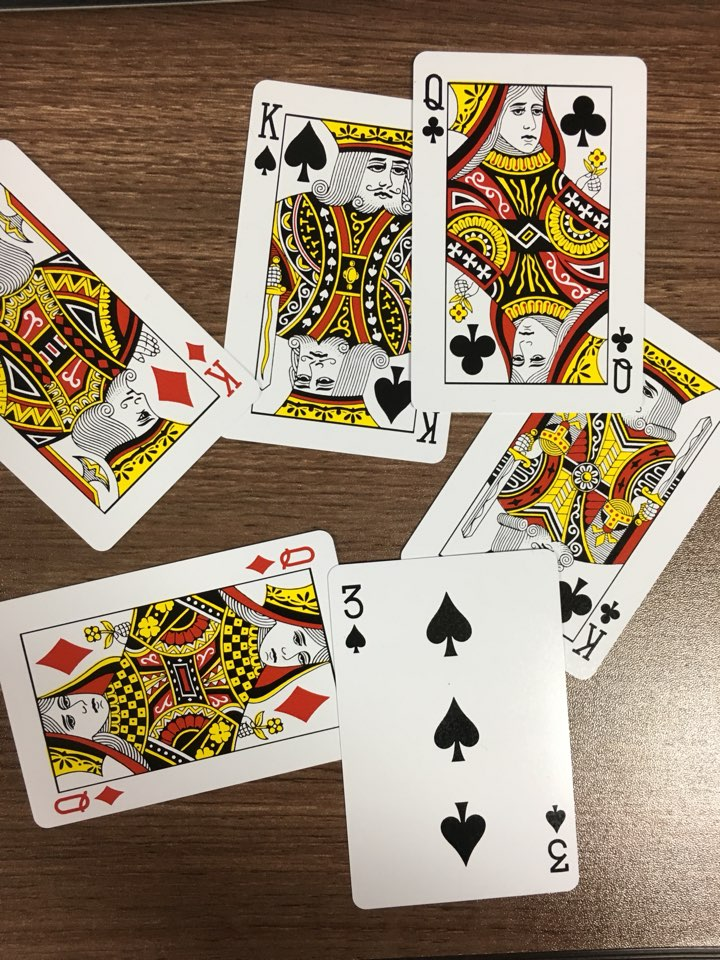king: (381, 282, 720, 688), (1, 119, 267, 564), (202, 64, 465, 483)
queen: (1, 521, 371, 841), (397, 41, 668, 423)
